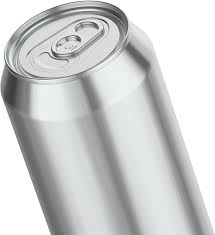can: (1, 1, 214, 235)
